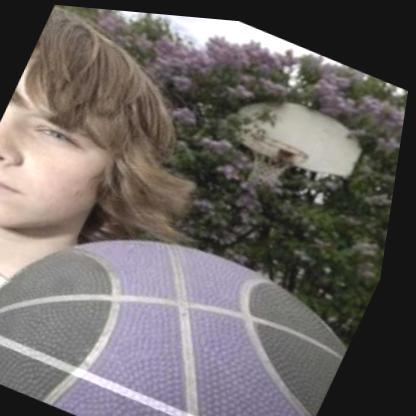basketball: (0, 170, 385, 416)
